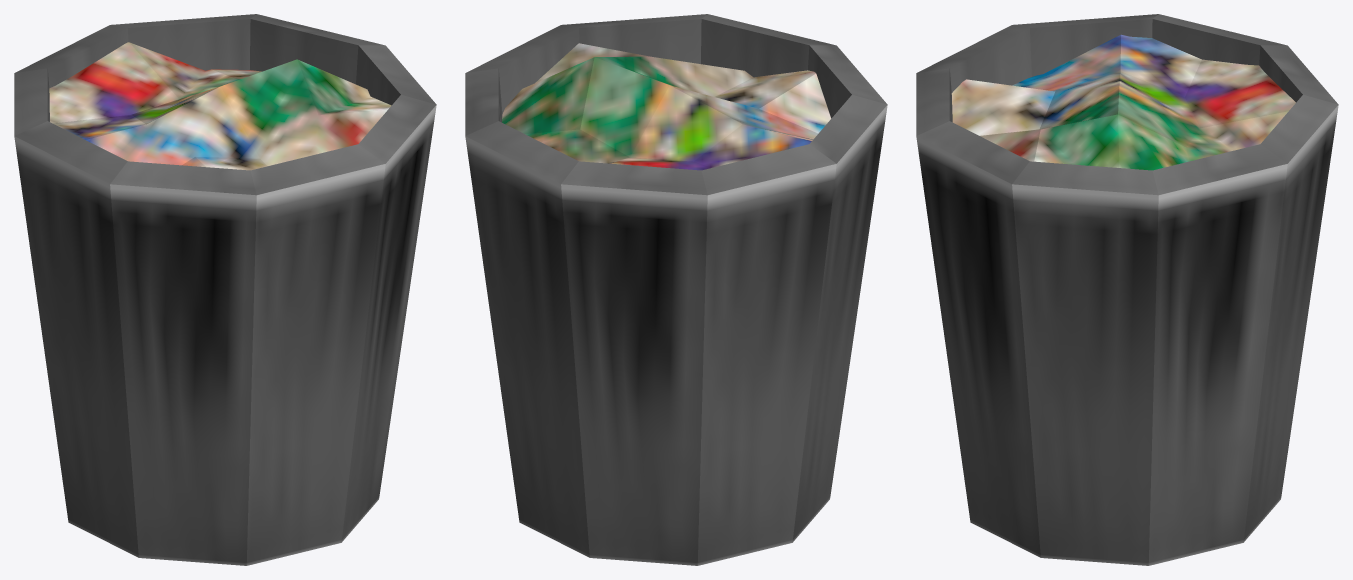
The model's file is TrashCan.fbx.
3 renders of one model, left to right at view 1: azimuth 30°, elevation 25°; view 2: azimuth 150°, elevation 25°; view 3: azimuth 270°, elevation 25°, orthographic.
Visible parts, largest first — view 1: Plane; view 2: Plane; view 3: Plane.
Part boxes in pixels (x1,y1,x2,y2): Plane: (14, 14, 436, 565); Plane: (465, 14, 887, 565); Plane: (916, 14, 1338, 565).
Size of the model in its own units: 197 by 214 by 194.
